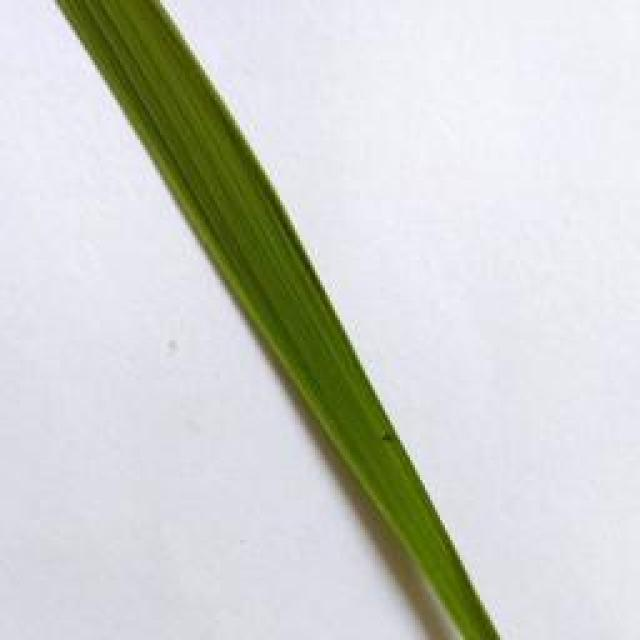Healthy-Plant: (53, 0, 515, 640)
